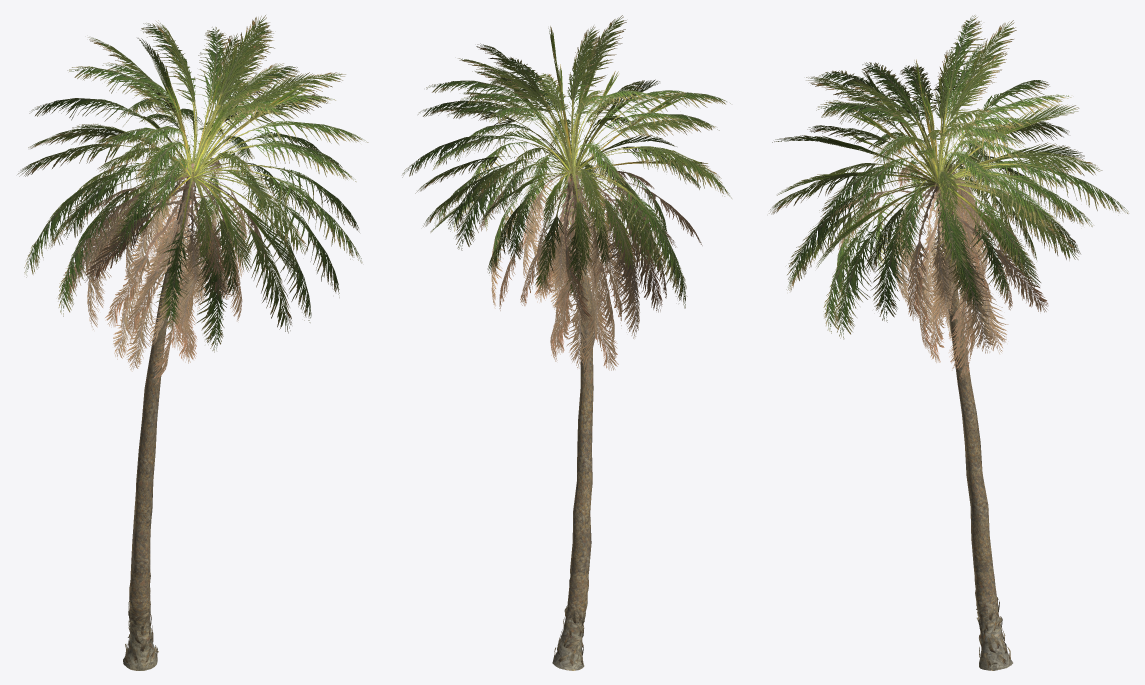
File: palm_tree_medium_dense_a0afd1bf.fbx
3 renders of one model, left to right at view 1: azimuth 30°, elevation 25°; view 2: azimuth 150°, elevation 25°; view 3: azimuth 270°, elevation 25°, orthographic. The views are drawn at different scales.
Visible parts, largest first — view 1: palm_tree_medium_dense_a0afd1bf; view 2: palm_tree_medium_dense_a0afd1bf; view 3: palm_tree_medium_dense_a0afd1bf.
Part boxes in pixels (x1,y1,x2,y2): palm_tree_medium_dense_a0afd1bf: [17, 15, 368, 670]; palm_tree_medium_dense_a0afd1bf: [402, 15, 731, 670]; palm_tree_medium_dense_a0afd1bf: [769, 15, 1128, 670].
Bounding box in the file's own units: 7.95 × 15.29 × 8.11.
4 materials, 4 textured.
